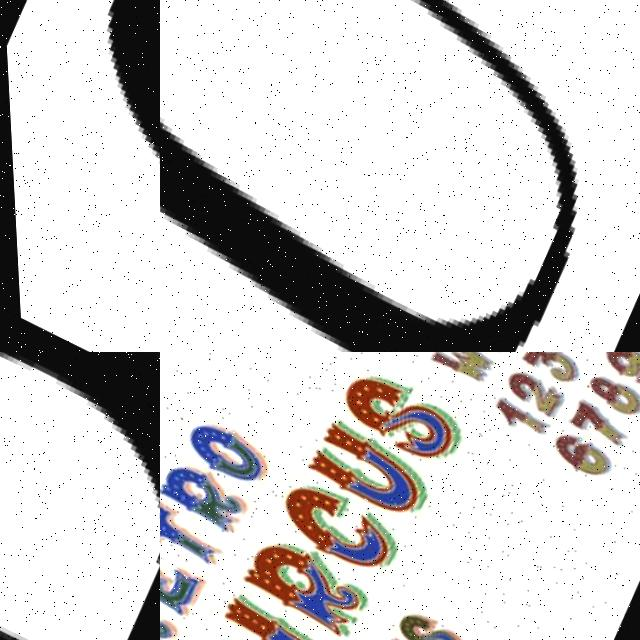1: (486, 394, 543, 436)
2: (495, 362, 563, 417)
3: (513, 352, 578, 384)
6: (9, 0, 160, 352), (543, 424, 617, 483)
7: (560, 395, 630, 451)
8: (579, 366, 640, 419)
9: (595, 352, 640, 391)
D: (0, 352, 160, 640)
U: (160, 0, 640, 352)
